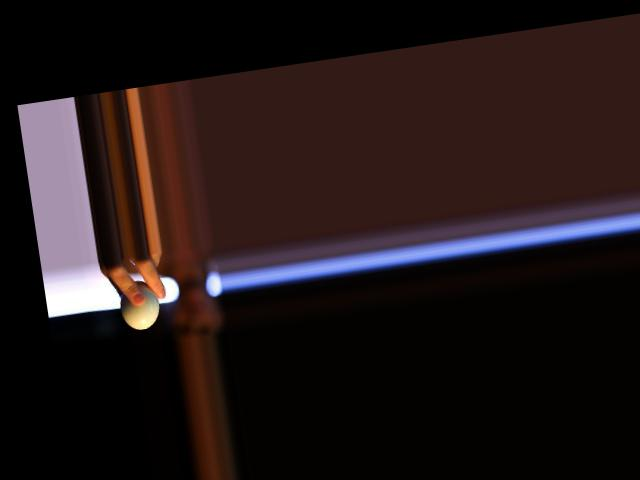egg: (117, 277, 163, 331)
